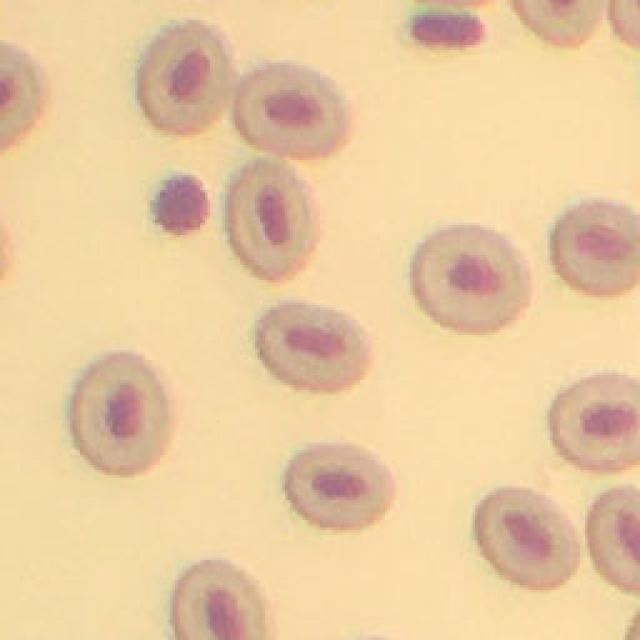RBC: (412, 225, 530, 331), (71, 352, 169, 474), (139, 21, 236, 132), (235, 62, 349, 156), (230, 160, 318, 279), (475, 488, 579, 587), (258, 301, 370, 390), (285, 442, 395, 528), (550, 374, 640, 469), (551, 201, 640, 294), (171, 560, 274, 640), (588, 486, 640, 591), (1, 41, 41, 147), (514, 0, 606, 45)
WBC: (151, 171, 210, 234), (412, 12, 485, 46)
